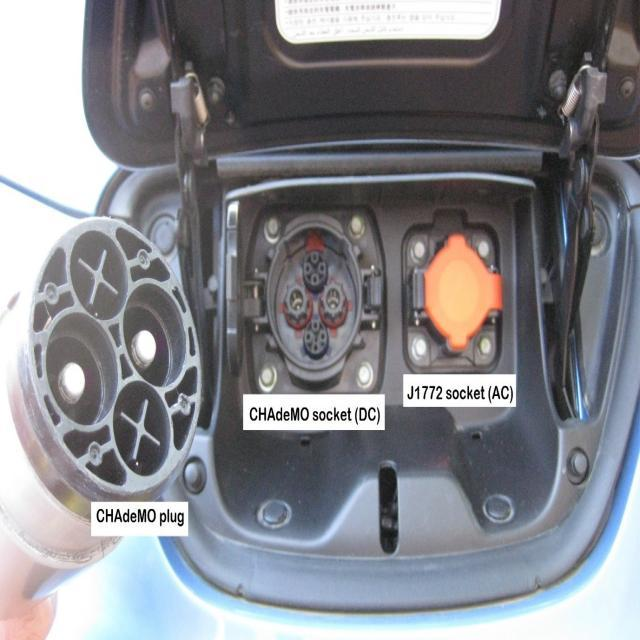CHAdeMO: (252, 215, 386, 396)
